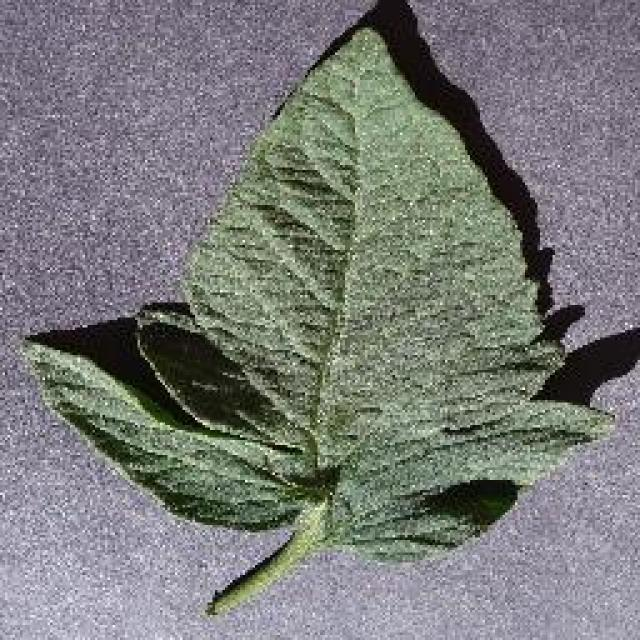Tomato healthy leaf: (30, 34, 615, 604)
